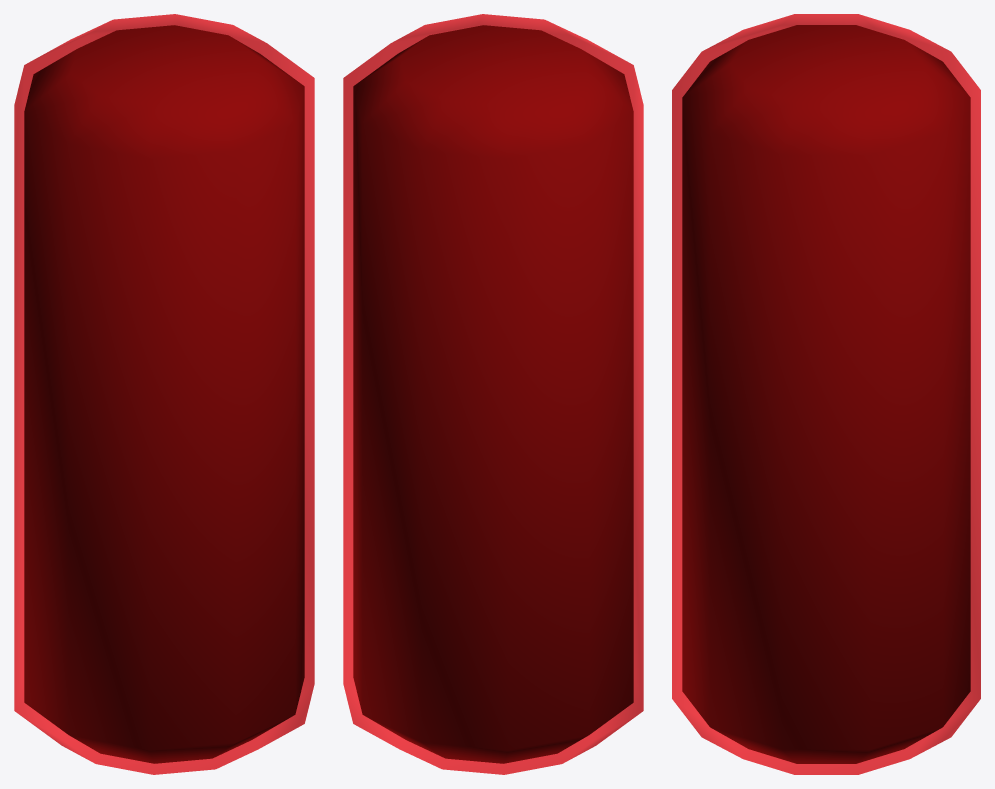
Rendered from bounceStand.glb.
3 renders of one model, left to right at view 1: azimuth 30°, elevation 25°; view 2: azimuth 150°, elevation 25°; view 3: azimuth 270°, elevation 25°, orthographic.
Parts seen in each view (by area): view 1: BounceStand, BounceStandOutline; view 2: BounceStand, BounceStandOutline; view 3: BounceStand, BounceStandOutline.
Boxes of the visible parts, left/top/right/bottom form: BounceStand: left=24, top=25, right=304, bottom=763; BounceStandOutline: left=14, top=14, right=314, bottom=774; BounceStand: left=353, top=25, right=633, bottom=763; BounceStandOutline: left=343, top=14, right=643, bottom=774; BounceStand: left=682, top=25, right=970, bottom=763; BounceStandOutline: left=672, top=14, right=980, bottom=774.
Size of what is drawn, in the model's own units: 0.9245 by 2.36 by 0.9725.
Materials: 2 (2 with a texture image).
